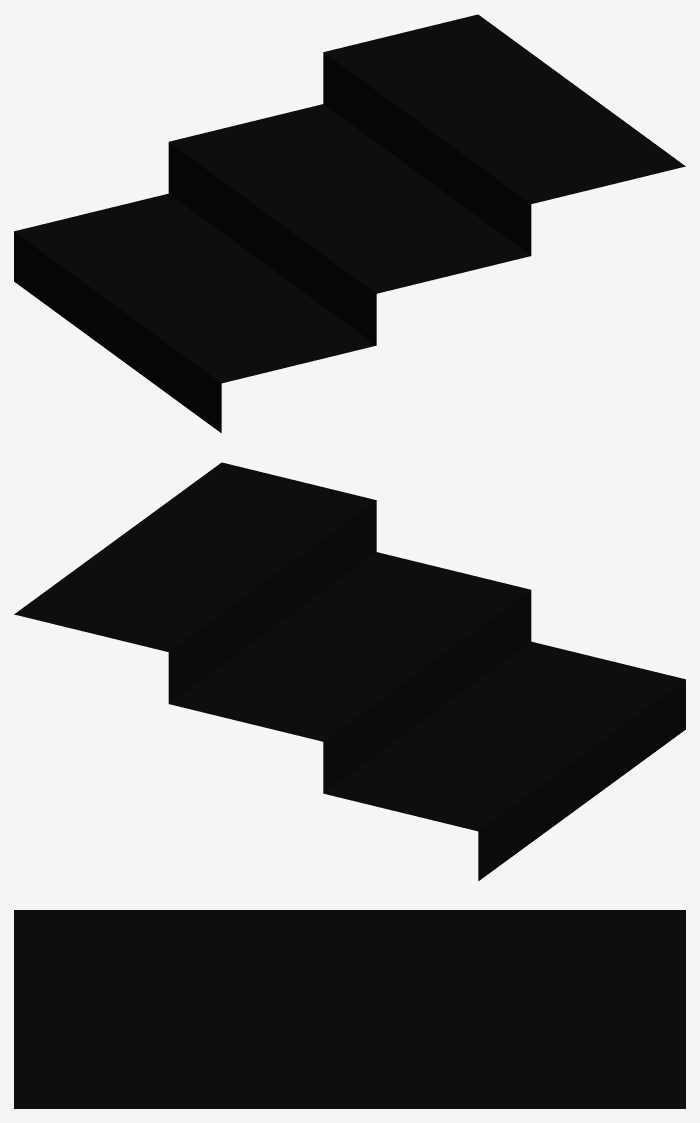
3 renders of one model, top to bottom at view 1: azimuth 30°, elevation 25°; view 2: azimuth 150°, elevation 25°; view 3: azimuth 270°, elevation 25°, orthographic. The views are drawn at different scales.
Visible parts, largest first — view 1: Joint_0_Object_0; view 2: Joint_0_Object_0; view 3: Joint_0_Object_0.
Boxes of the visible parts, x1,y1,x2,y2 form: Joint_0_Object_0: [14, 14, 685, 432]; Joint_0_Object_0: [14, 462, 685, 880]; Joint_0_Object_0: [14, 910, 685, 1108].
Size of the model in its own units: 2896 by 917 by 2245.
1 material, 1 textured.
